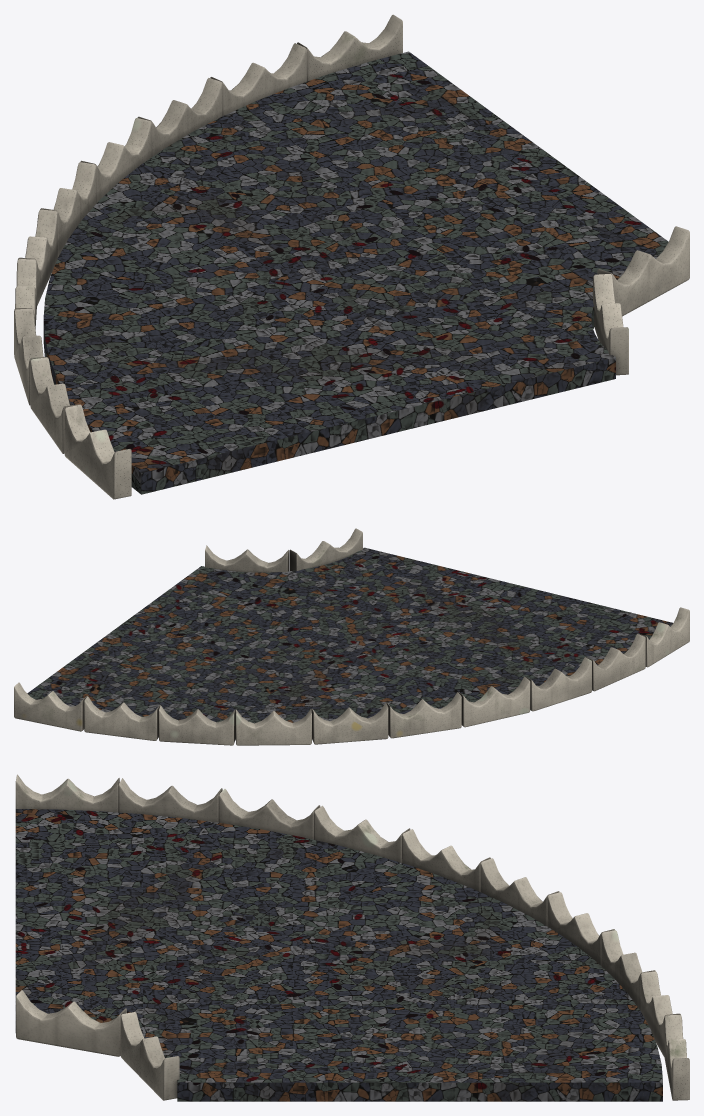
The model's file is PathGravelCurve.fbx.
3 renders of one model, top to bottom at view 1: azimuth 30°, elevation 25°; view 2: azimuth 150°, elevation 25°; view 3: azimuth 270°, elevation 25°, orthographic. The views are drawn at different scales.
Visible parts, largest first — view 1: PathGravelCurve_Path, PathGravelCurve_Main; view 2: PathGravelCurve_Path, PathGravelCurve_Main; view 3: PathGravelCurve_Path, PathGravelCurve_Main.
Boxes of the visible parts, left/top/right/bottom form: PathGravelCurve_Path: left=43, top=51, right=668, bottom=494; PathGravelCurve_Main: left=14, top=14, right=689, bottom=499; PathGravelCurve_Path: left=27, top=547, right=672, bottom=723; PathGravelCurve_Main: left=14, top=528, right=689, bottom=745; PathGravelCurve_Path: left=15, top=809, right=662, bottom=1101; PathGravelCurve_Main: left=15, top=774, right=689, bottom=1100.
Bounding box in the file's own units: 833 × 58.6 × 835.
